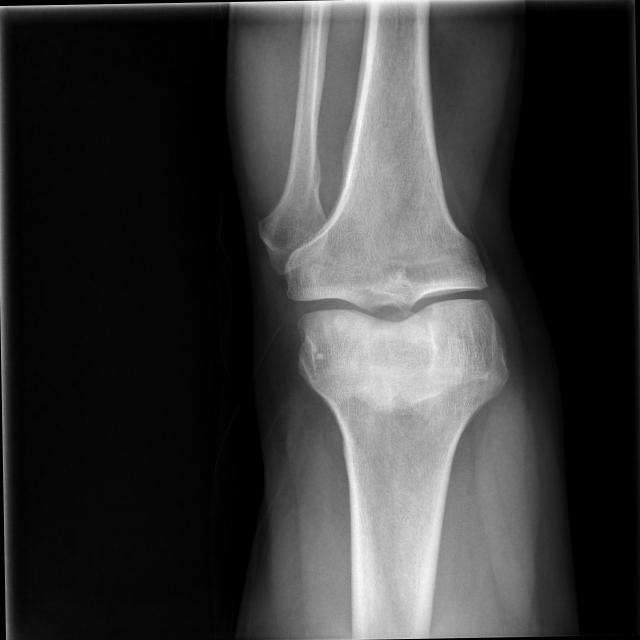Knee: (280, 198, 514, 412)
